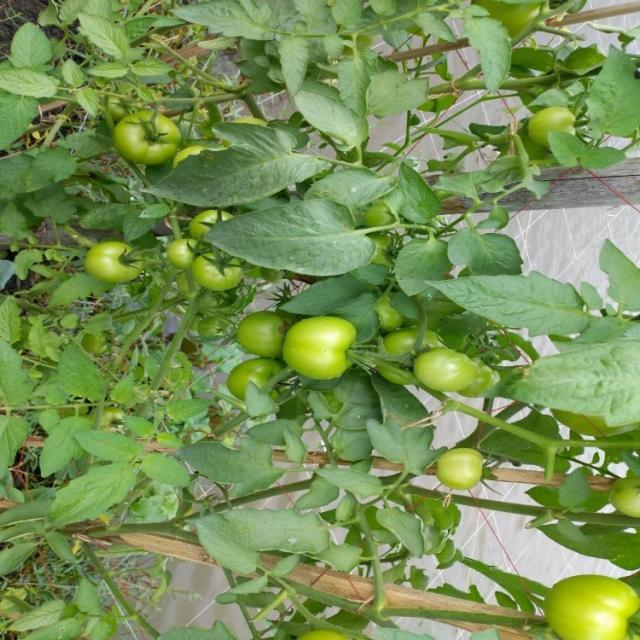tomato: (538, 561, 640, 640), (284, 312, 371, 386), (110, 104, 187, 169), (189, 249, 254, 314), (233, 299, 304, 356), (414, 345, 485, 400), (83, 241, 152, 295), (441, 444, 492, 504), (523, 103, 576, 145), (218, 355, 278, 392), (365, 194, 402, 245), (607, 471, 640, 519), (385, 319, 418, 363), (373, 292, 400, 337), (189, 196, 221, 232), (165, 229, 194, 260)
